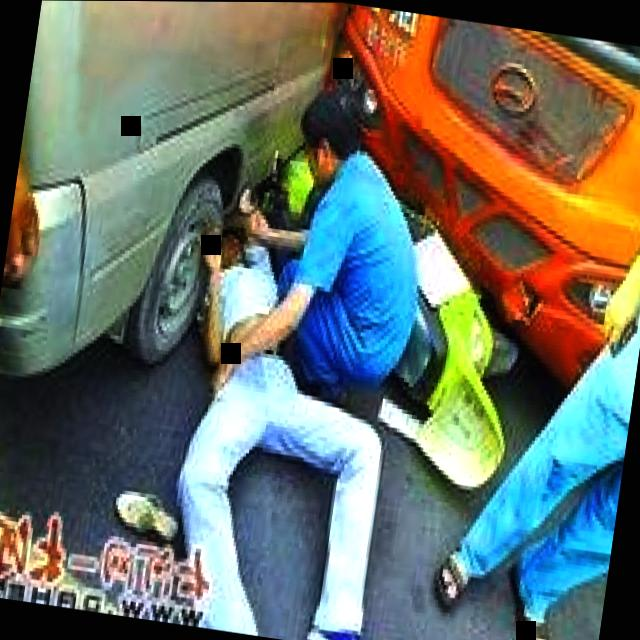Fall-Detected: (123, 176, 479, 640)
